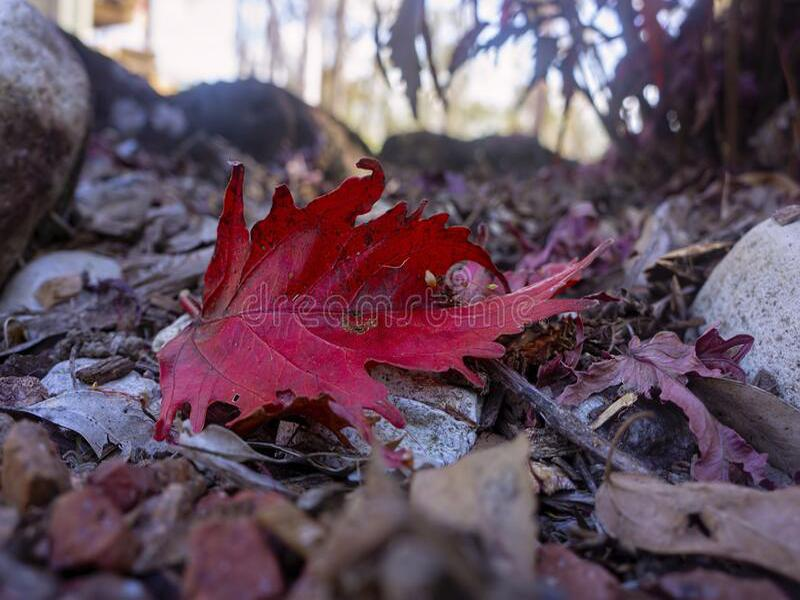leaf: (148, 156, 618, 456), (567, 316, 765, 487)
